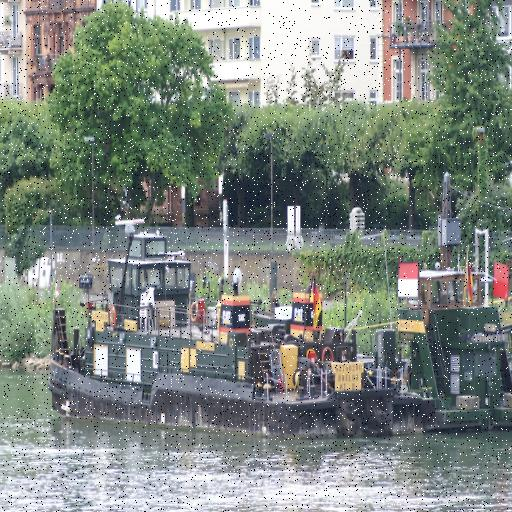tugboat: (46, 215, 436, 455)
